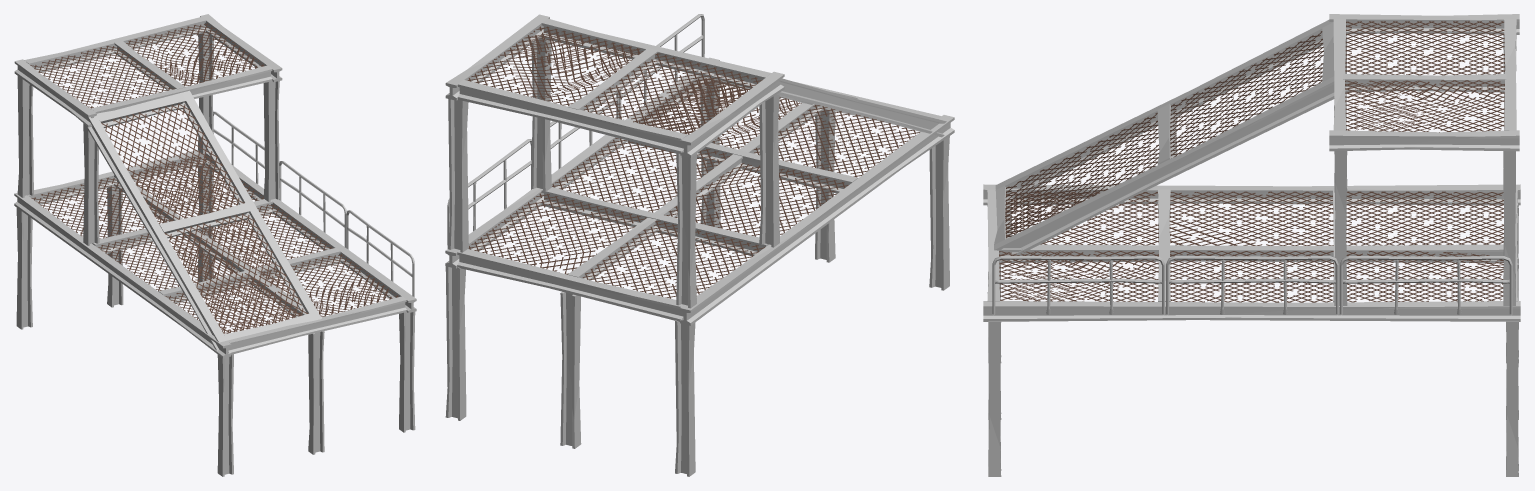
Rendered from SM_Prop_IndustrialWalkway_Preset_Large_02.fbx.
3 renders of one model, left to right at view 1: azimuth 30°, elevation 25°; view 2: azimuth 150°, elevation 25°; view 3: azimuth 270°, elevation 25°, orthographic. The views are drawn at different scales.
Parts seen in each view (by area): view 1: SM_Prop_IndustrialWalkway_Preset_Large_02; view 2: SM_Prop_IndustrialWalkway_Preset_Large_02; view 3: SM_Prop_IndustrialWalkway_Preset_Large_02.
Boxes of the visible parts, x1,y1,x2,y2 form: SM_Prop_IndustrialWalkway_Preset_Large_02: (14, 14, 416, 476); SM_Prop_IndustrialWalkway_Preset_Large_02: (445, 14, 954, 476); SM_Prop_IndustrialWalkway_Preset_Large_02: (983, 14, 1520, 476).
Size of the model in its own units: 481 by 622 by 888.
